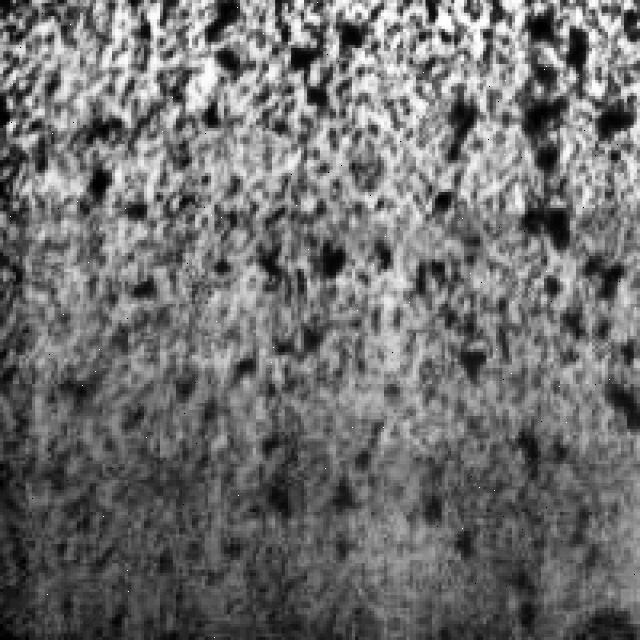Rolled_in_Scale: (4, 7, 486, 550), (356, 29, 630, 589)
